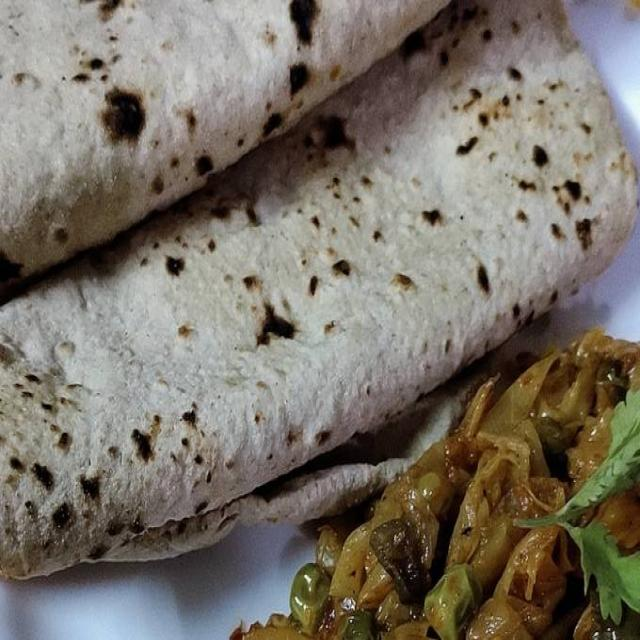BAJI: (238, 339, 639, 637)
ROTI: (0, 0, 636, 584)
